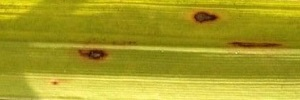RiceBrownSpot: (185, 4, 300, 61), (49, 31, 137, 89)
